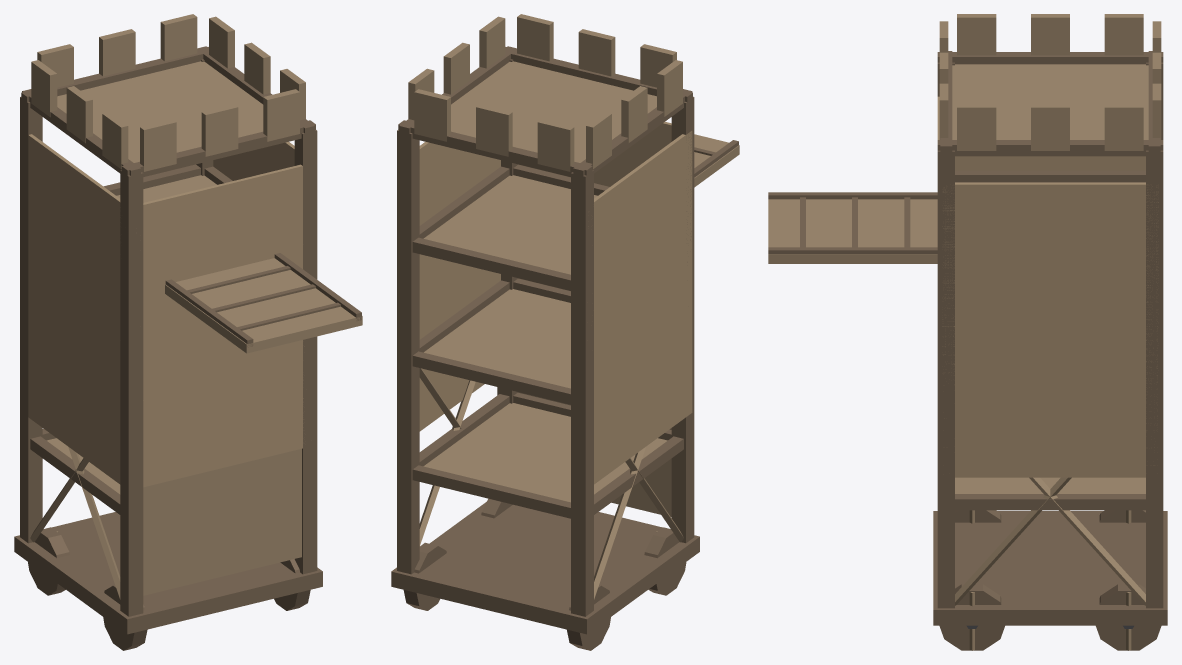
The model's file is siege_tower.glb.
The picture shows the model from 3 angles, left to right: view 1: azimuth 30°, elevation 25°; view 2: azimuth 150°, elevation 25°; view 3: azimuth 270°, elevation 25°; orthographic projection. The views are drawn at different scales.
Parts seen in each view (by area): view 1: Body, Bridge, Wheel_0, Wheel_2, Wheel_3; view 2: Body, Bridge, Wheel_2, Wheel_1, Wheel_0; view 3: Body, Bridge, Wheel_1, Wheel_3, Wheel_0, Wheel_2.
Boxes of the visible parts, bbox=[...] form: Body: bbox=[14, 14, 322, 634]; Bridge: bbox=[165, 253, 362, 353]; Wheel_0: bbox=[28, 527, 69, 595]; Wheel_2: bbox=[103, 585, 147, 650]; Wheel_3: bbox=[274, 559, 310, 610]; Body: bbox=[391, 14, 699, 634]; Bridge: bbox=[694, 134, 739, 187]; Wheel_2: bbox=[644, 527, 686, 595]; Wheel_1: bbox=[403, 542, 446, 610]; Wheel_0: bbox=[567, 585, 610, 650]; Body: bbox=[933, 14, 1167, 625]; Bridge: bbox=[768, 192, 937, 263]; Wheel_1: bbox=[1096, 584, 1161, 650]; Wheel_3: bbox=[939, 584, 1004, 650]; Wheel_0: bbox=[1099, 510, 1145, 523]; Wheel_2: bbox=[955, 510, 1001, 523].
Bounding box in the file's own units: 5.4 × 13.86 × 9.2.
